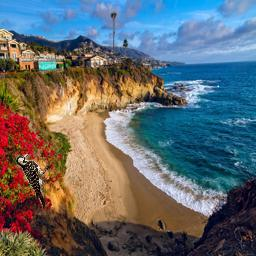Woodpecker: (16, 154, 50, 211)
